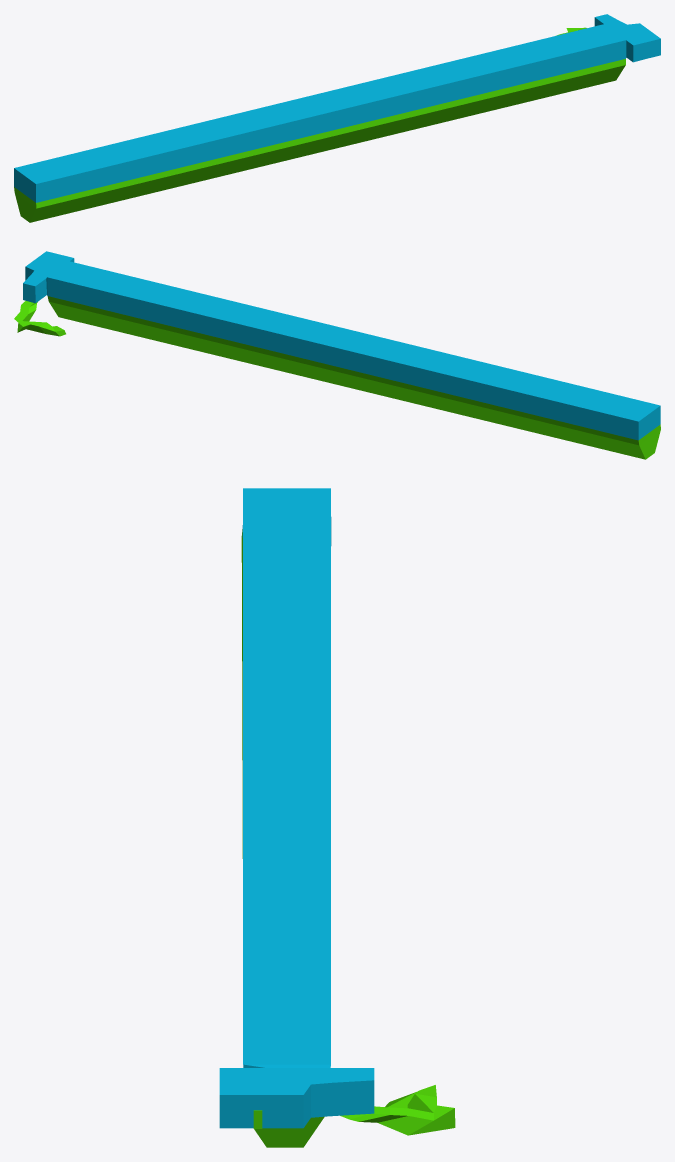
File: ravine.fbx
3 renders of one model, top to bottom at view 1: azimuth 30°, elevation 25°; view 2: azimuth 150°, elevation 25°; view 3: azimuth 270°, elevation 25°, orthographic. The views are drawn at different scales.
Visible parts, largest first — view 1: Cube; view 2: Cube; view 3: Cube.
Part boxes in pixels (x1,y1,x2,y2): Cube: (14,14,660,222); Cube: (14,251,660,459); Cube: (219,488,455,1147).
Bounding box in the file's own units: 93514 × 6306 × 15406.
